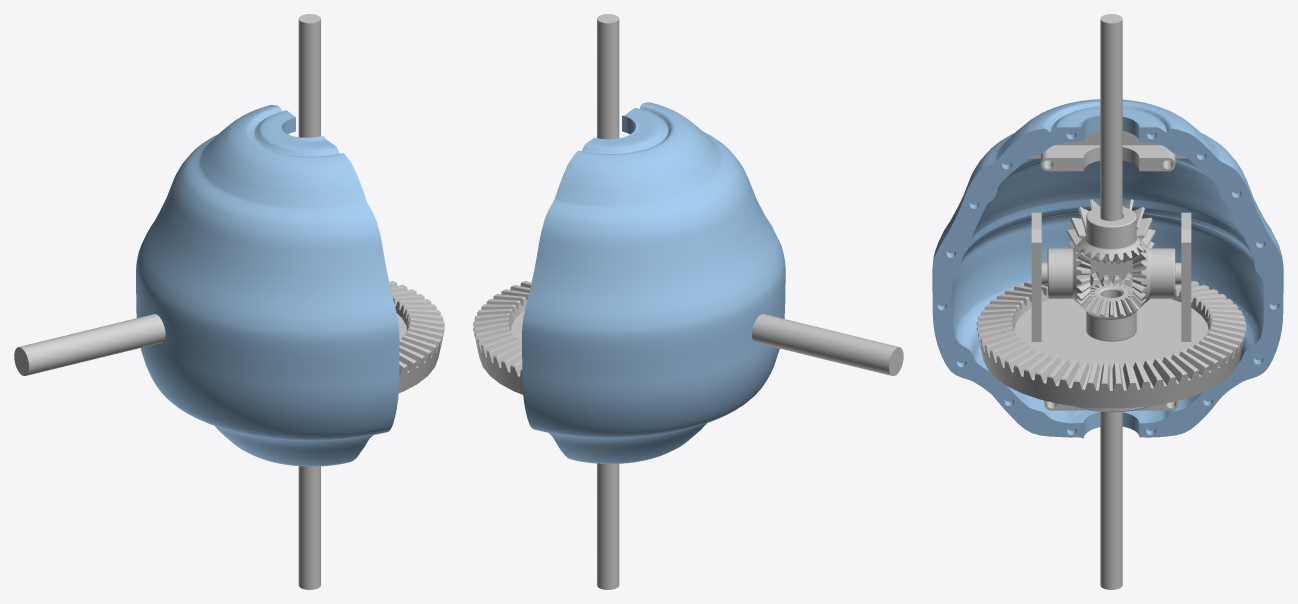
Rendered from Differential-Final Model.glb.
3 renders of one model, left to right at view 1: azimuth 30°, elevation 25°; view 2: azimuth 150°, elevation 25°; view 3: azimuth 270°, elevation 25°, orthographic.
Parts seen in each view (by area): view 1: Node10, Node5, Node8, Node9; view 2: Node10, Node5, Node8, Node9; view 3: Node10, Node5, Node9, Node12, Node2, Node1, Node4, Node3, Node8, Node6, Node7, Node11.
Part boxes in pixels (left/top/right/bottom): Node10: left=136, top=105, right=399, bottom=466; Node5: left=298, top=281, right=444, bottom=589; Node8: left=14, top=314, right=165, bottom=375; Node9: left=298, top=14, right=320, bottom=137; Node10: left=522, top=102, right=785, bottom=463; Node5: left=473, top=281, right=619, bottom=589; Node8: left=752, top=314, right=903, bottom=375; Node9: left=597, top=14, right=619, bottom=139; Node10: left=932, top=99, right=1283, bottom=438; Node5: left=976, top=273, right=1246, bottom=589; Node9: left=1100, top=14, right=1122, bottom=221; Node12: left=1028, top=131, right=1187, bottom=171; Node2: left=1082, top=282, right=1140, bottom=341; Node1: left=1077, top=207, right=1145, bottom=264; Node4: left=1047, top=241, right=1090, bottom=307; Node3: left=1132, top=241, right=1175, bottom=307; Node8: left=1067, top=199, right=1155, bottom=281; Node6: left=1031, top=212, right=1041, bottom=341; Node7: left=1181, top=212, right=1191, bottom=341; Node11: left=1044, top=400, right=1178, bottom=410.
Size of the model in its own units: 23.47 by 31.38 by 17.65.
